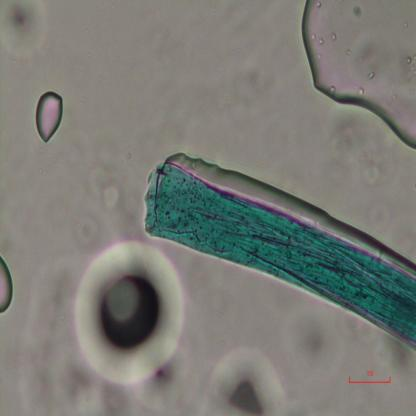Air bubble: (299, 0, 416, 151), (35, 88, 67, 145), (0, 250, 14, 315)
Background material: (75, 233, 188, 385), (19, 257, 83, 408), (322, 119, 399, 218), (204, 347, 286, 415), (288, 301, 344, 372), (0, 0, 50, 58), (88, 166, 124, 210)
Microfibre: (144, 162, 416, 352)
